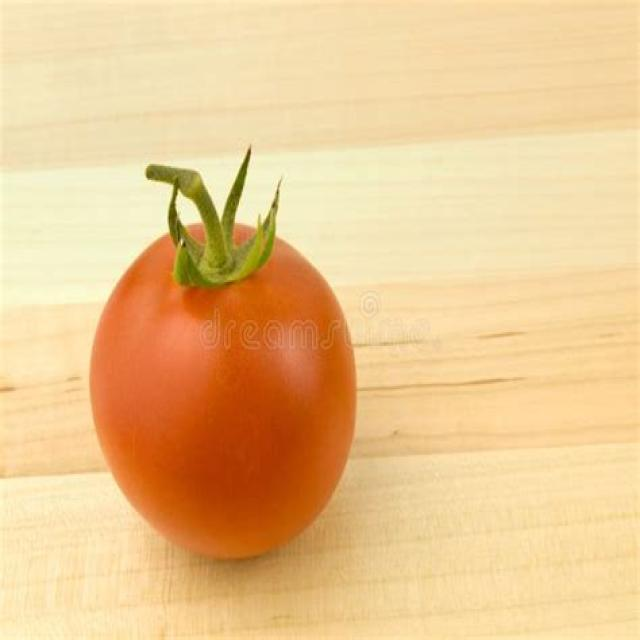Tomato: (87, 162, 358, 563)
